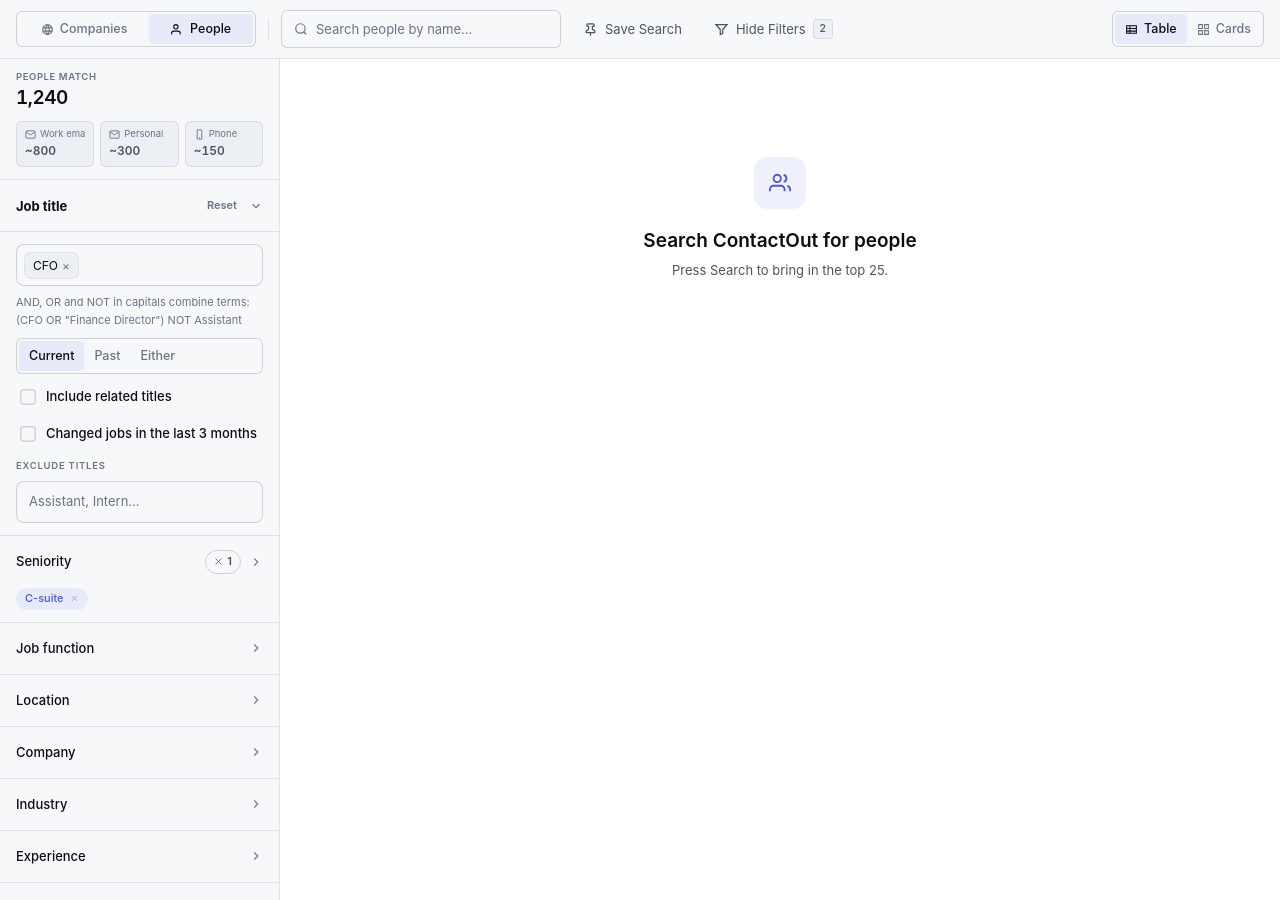
Test: StrategyPage — People mode › asks companies or people first in the toolbar, before the search, and goes back to companies from it
Expected: the radio button labelled "People" is checked, [149,14,253,44]
Click the radio button labelled "Companies": (84, 29) [19,14,149,44]
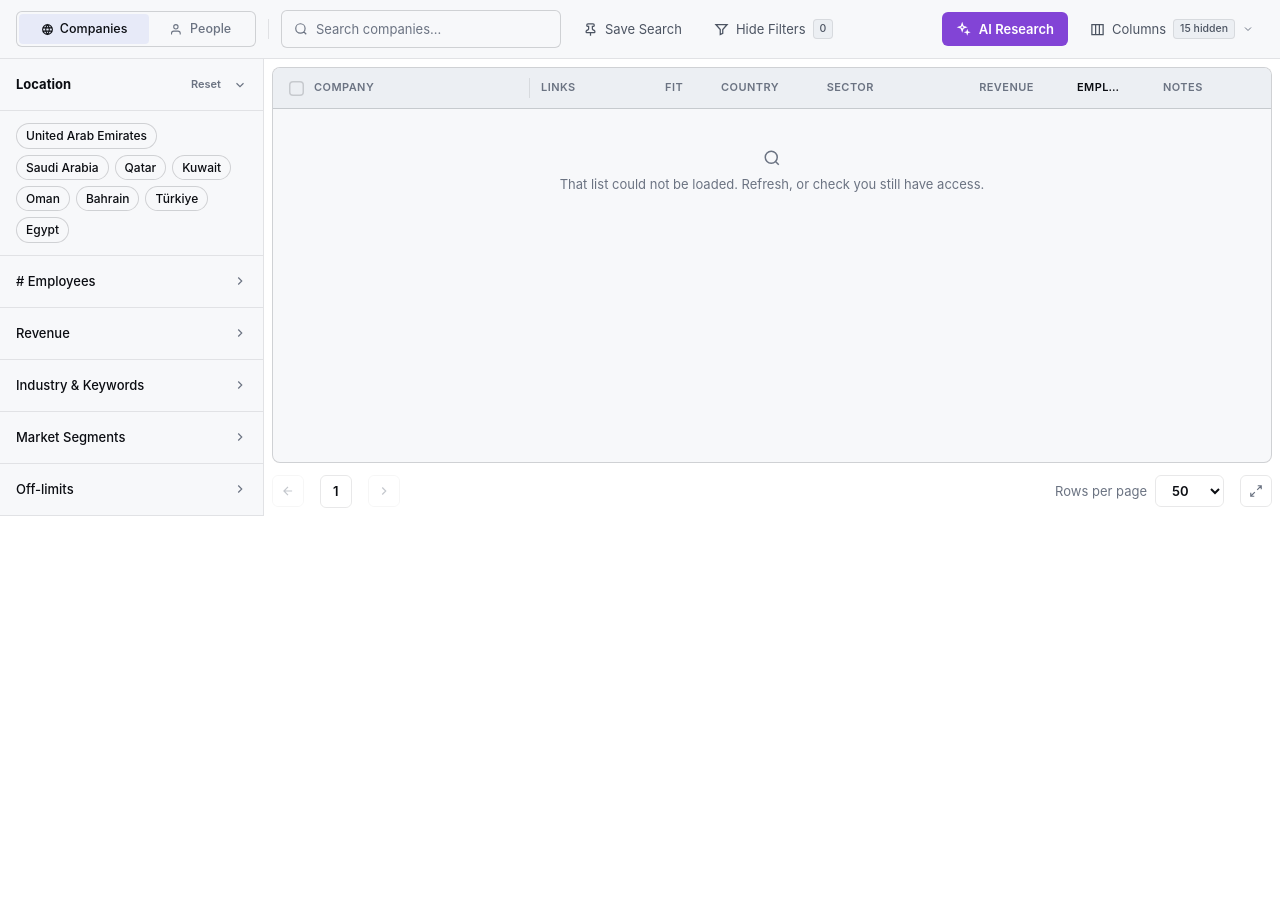
Expected: the search field labelled "Search companies" is shown, [316,19,550,39]
Expected: the radio button labelled "Companies" is checked, [19,14,149,44]
